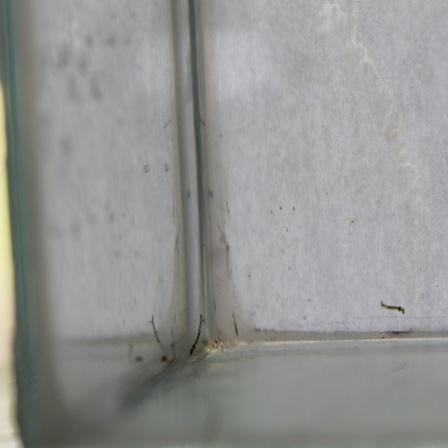Jentik-Nyamuk: (186, 314, 211, 359), (379, 294, 409, 321)
